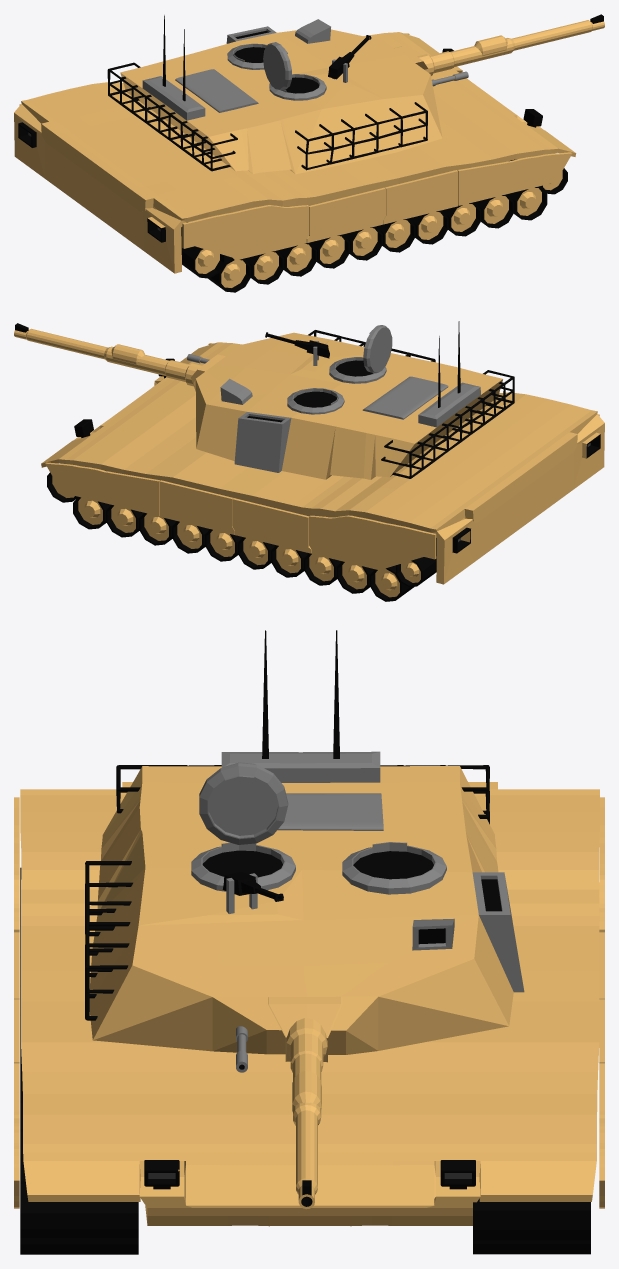
The model's file is Abraham.fbx.
The picture shows the model from 3 angles, top to bottom: view 1: azimuth 30°, elevation 25°; view 2: azimuth 150°, elevation 25°; view 3: azimuth 270°, elevation 25°; orthographic projection. The views are drawn at different scales.
Parts seen in each view (by area): view 1: Cube, Cube.001, Cylinder; view 2: Cube, Cube.001, Cylinder; view 3: Cube, Cube.001, Cylinder.
Part boxes in pixels (x1=…): Cube: x1=14, y1=32, x2=576, y2=273; Cube.001: x1=107, y1=14, x2=604, y2=174; Cylinder: x1=181, y1=159, x2=567, y2=292; Cube: x1=41, y1=342, x2=604, y2=584; Cube.001: x1=14, y1=321, x2=514, y2=479; Cylinder: x1=47, y1=472, x2=436, y2=601; Cube: x1=14, y1=782, x2=604, y2=1226; Cube.001: x1=85, y1=630, x2=524, y2=1209; Cylinder: x1=20, y1=867, x2=590, y2=1254.
Bounding box in the file's own units: 482 × 188 × 268.
